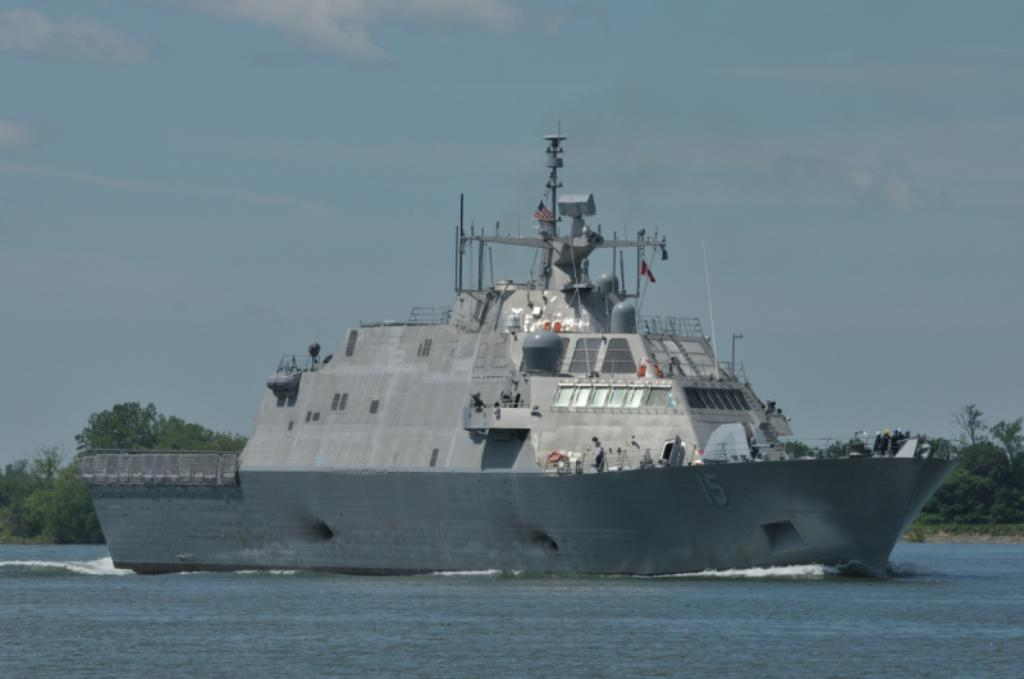Warship: (74, 110, 956, 582)
